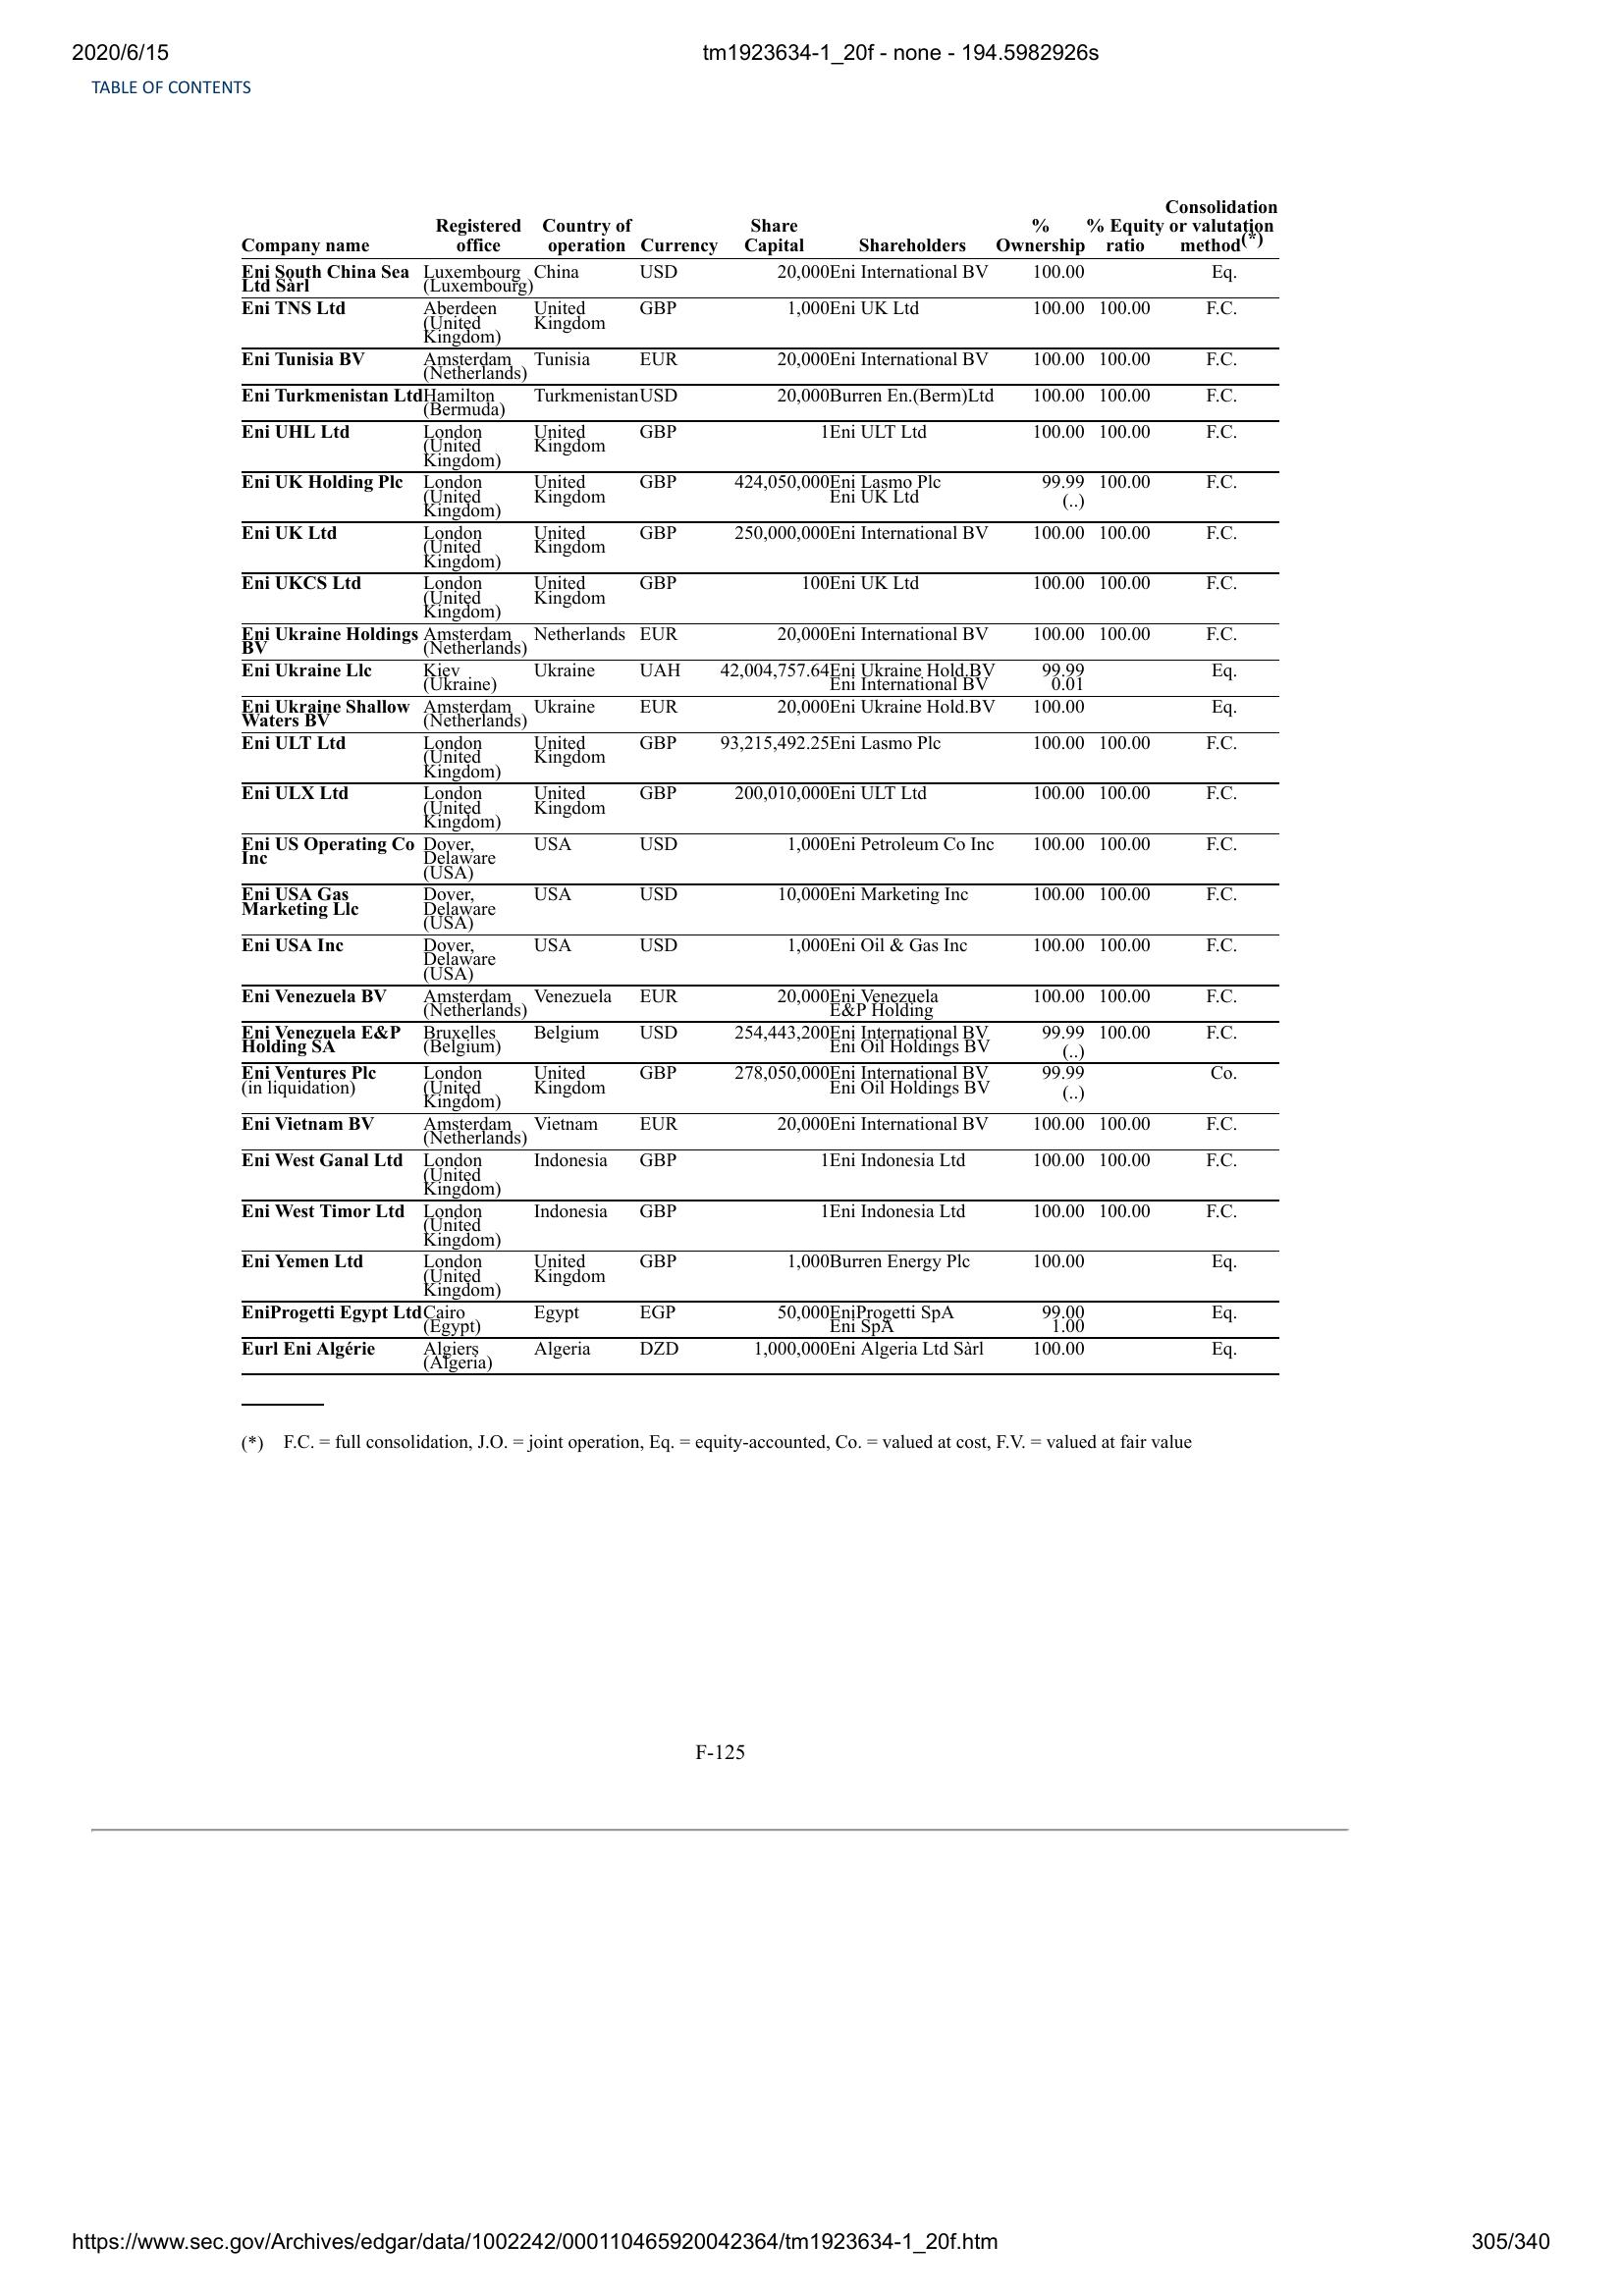table: (235, 190, 1286, 1387)
